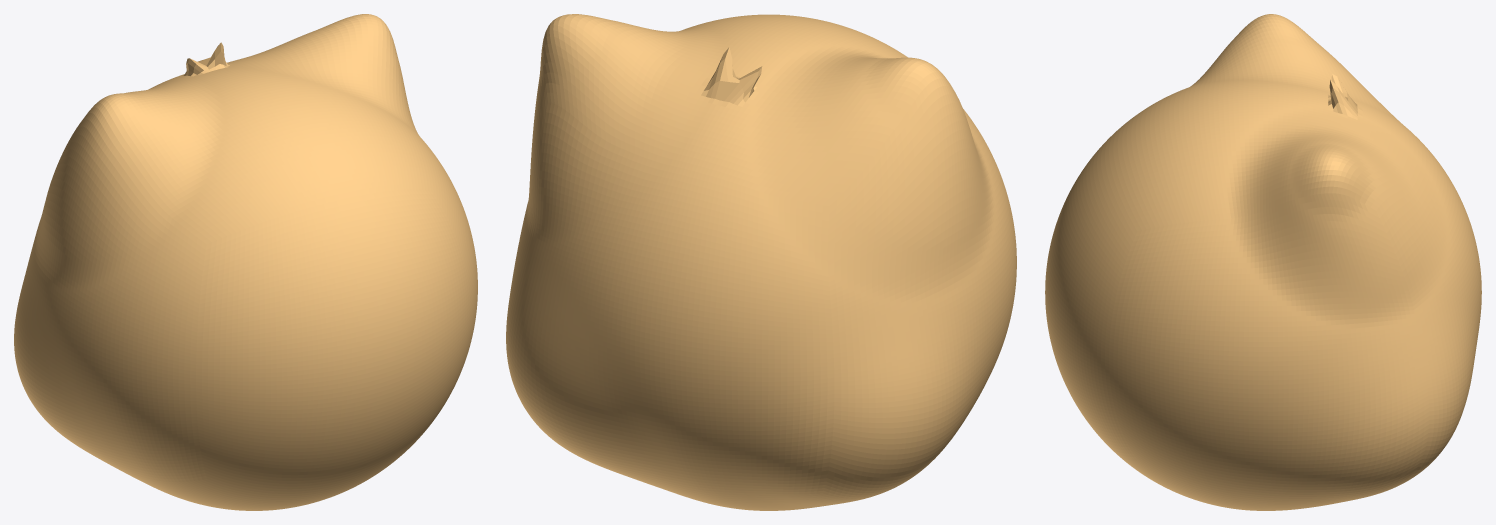
File: cabeza_o.glb
3 renders of one model, left to right at view 1: azimuth 30°, elevation 25°; view 2: azimuth 150°, elevation 25°; view 3: azimuth 270°, elevation 25°, orthographic. The views are drawn at different scales.
Bounding box in the file's own units: 0.9956 × 1.03 × 0.9909.
